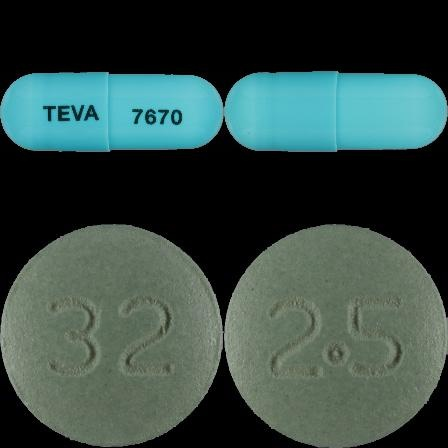63629-5366: (0, 0, 224, 224)
